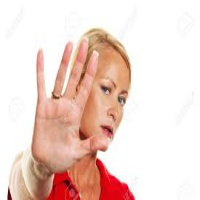ring: (49, 38, 75, 96)
